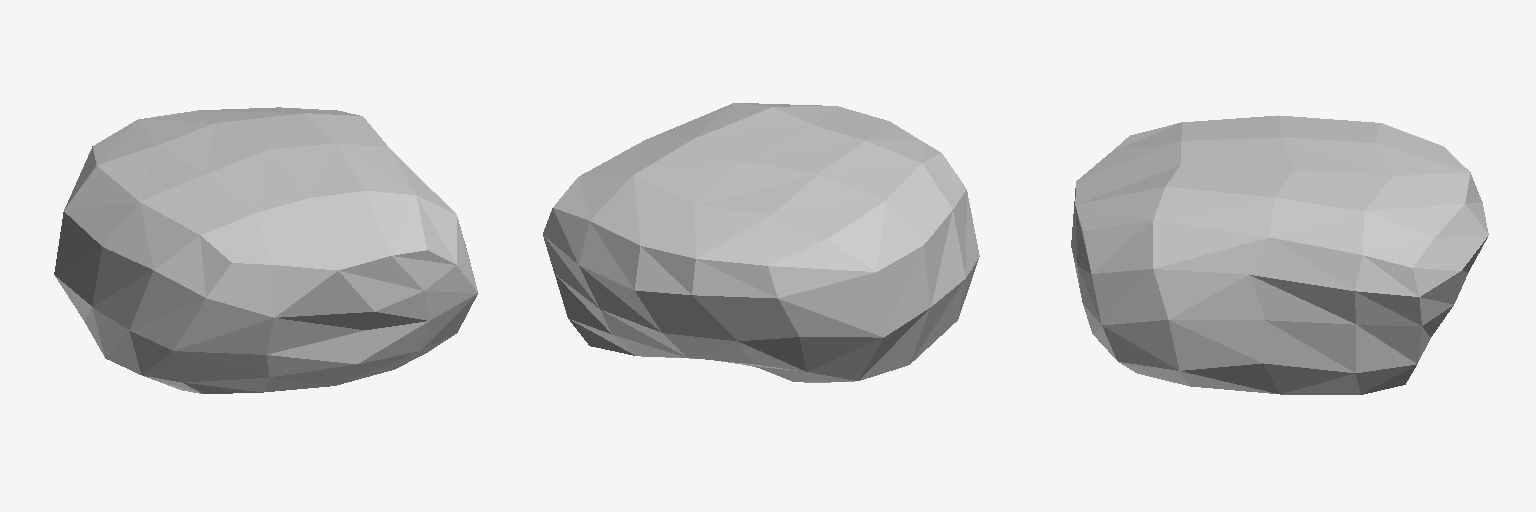
The model's file is rock.obj.
The picture shows the model from 3 angles: view 1: azimuth 30°, elevation 25°; view 2: azimuth 150°, elevation 25°; view 3: azimuth 270°, elevation 25°; orthographic projection.
Parts seen in each view (by area): view 1: Cube; view 2: Cube; view 3: Cube.
Part boxes in pixels (left/top/right/bottom): Cube: left=54, top=107, right=477, bottom=393; Cube: left=543, top=103, right=979, bottom=382; Cube: left=1071, top=115, right=1488, bottom=394.
Size of the model in its own units: 2.9 by 1.63 by 3.21.